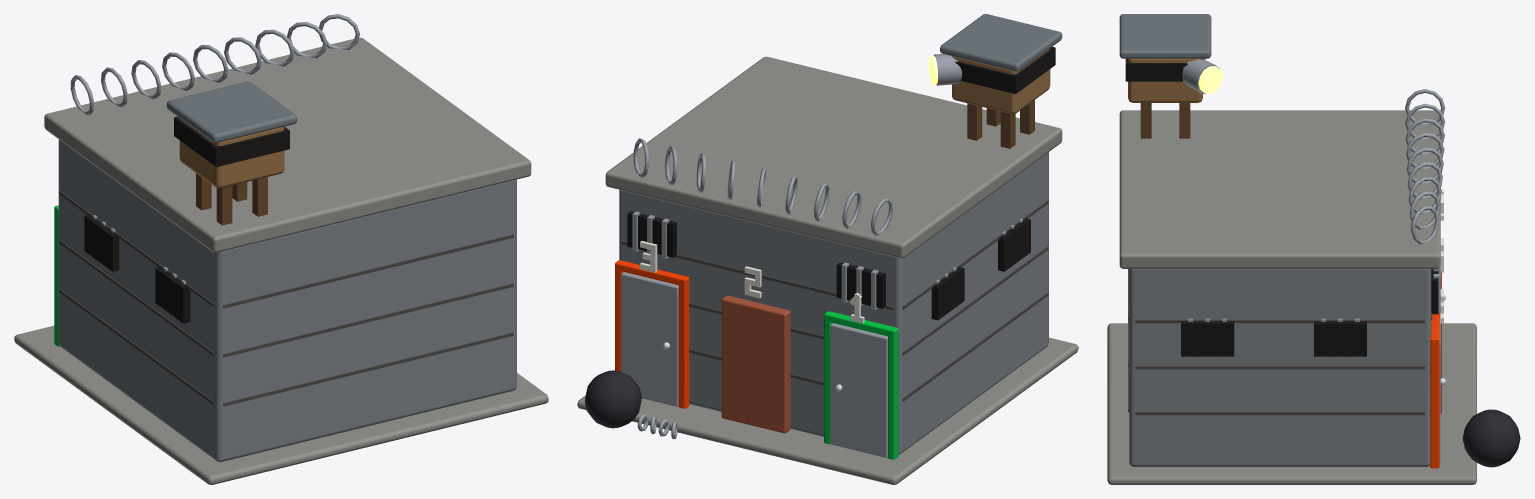
The model's file is building_living_quarters_t1.glb.
The picture shows the model from 3 angles, left to right: view 1: azimuth 30°, elevation 25°; view 2: azimuth 150°, elevation 25°; view 3: azimuth 270°, elevation 25°; orthographic projection. The views are drawn at different scales.
Visible parts, largest first — view 1: Walls, Roof.Slab, Lot, Tower.Cap, CourseB.Groove, Tower.Cab, Tower.Glass, CourseL.Groove, WinS-10.Slit, WinS-1-1.Slit, Entry.Jamb, Tower.Leg0 (+1 smaller); view 2: Walls, Roof.Slab, Lot, Cell2.Sealed, Entry.Leaf, Exit.Leaf, Tower.Cap, Ball, Tower.Cab, Tower.Glass, CourseL.Groove, Exit.Jamb (+13 smaller); view 3: Walls, Roof.Slab, Lot, Tower.Cap, CourseR.Groove, Ball, WinS1-1.Slit, WinS10.Slit, Tower.Cab, Exit.Jamb.001, Tower.Glass, Tower.Light (+1 smaller).
Boxes of the visible parts, x1=… form: Walls: x1=58, y1=139, x2=516, y2=462; Roof.Slab: x1=44, y1=37, x2=531, y2=252; Lot: x1=14, y1=326, x2=548, y2=484; Tower.Cap: x1=166, y1=81, x2=297, y2=142; CourseB.Groove: x1=223, y1=234, x2=513, y2=406; Tower.Cab: x1=179, y1=118, x2=284, y2=188; Tower.Glass: x1=174, y1=116, x2=289, y2=166; CourseL.Groove: x1=59, y1=191, x2=214, y2=405; WinS-10.Slit: x1=84, y1=215, x2=119, y2=271; WinS-1-1.Slit: x1=155, y1=266, x2=190, y2=323; Entry.Jamb: x1=54, y1=213, x2=59, y2=346; Tower.Leg0: x1=216, y1=186, x2=232, y2=225; Walls: x1=619, y1=152, x2=1048, y2=454; Roof.Slab: x1=605, y1=56, x2=1062, y2=258; Lot: x1=577, y1=337, x2=1078, y2=484; Cell2.Sealed: x1=721, y1=295, x2=790, y2=433; Entry.Leaf: x1=830, y1=323, x2=887, y2=457; Exit.Leaf: x1=621, y1=272, x2=678, y2=406; Tower.Cap: x1=940, y1=14, x2=1062, y2=71; Ball: x1=584, y1=370, x2=641, y2=428; Tower.Cab: x1=952, y1=48, x2=1050, y2=113; Tower.Glass: x1=955, y1=46, x2=1055, y2=93; CourseL.Groove: x1=902, y1=200, x2=1048, y2=401; Exit.Jamb: x1=678, y1=283, x2=689, y2=408; Walls: x1=1129, y1=269, x2=1431, y2=466; Roof.Slab: x1=1119, y1=110, x2=1440, y2=268; Lot: x1=1107, y1=323, x2=1476, y2=484; Tower.Cap: x1=1119, y1=14, x2=1211, y2=58; CourseR.Groove: x1=1135, y1=320, x2=1424, y2=415; Ball: x1=1462, y1=409, x2=1520, y2=467; WinS1-1.Slit: x1=1181, y1=321, x2=1234, y2=356; WinS10.Slit: x1=1314, y1=321, x2=1366, y2=356; Tower.Cab: x1=1128, y1=58, x2=1202, y2=102; Exit.Jamb.001: x1=1430, y1=344, x2=1439, y2=468; Tower.Glass: x1=1125, y1=58, x2=1205, y2=81; Tower.Light: x1=1182, y1=59, x2=1219, y2=93.
Bounding box in the file's own units: 3.06 × 2.97 × 3.42.
